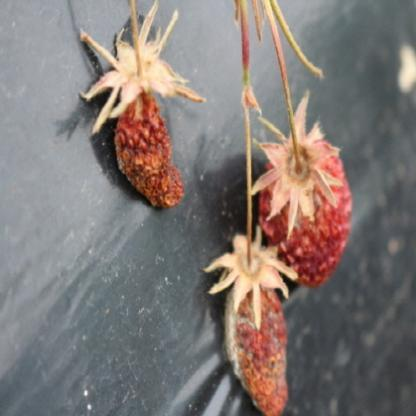Strawberry_Gray_Mold: (202, 228, 300, 416)
